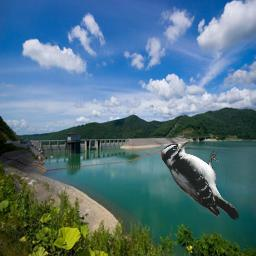Woodpecker: (161, 141, 239, 220)
